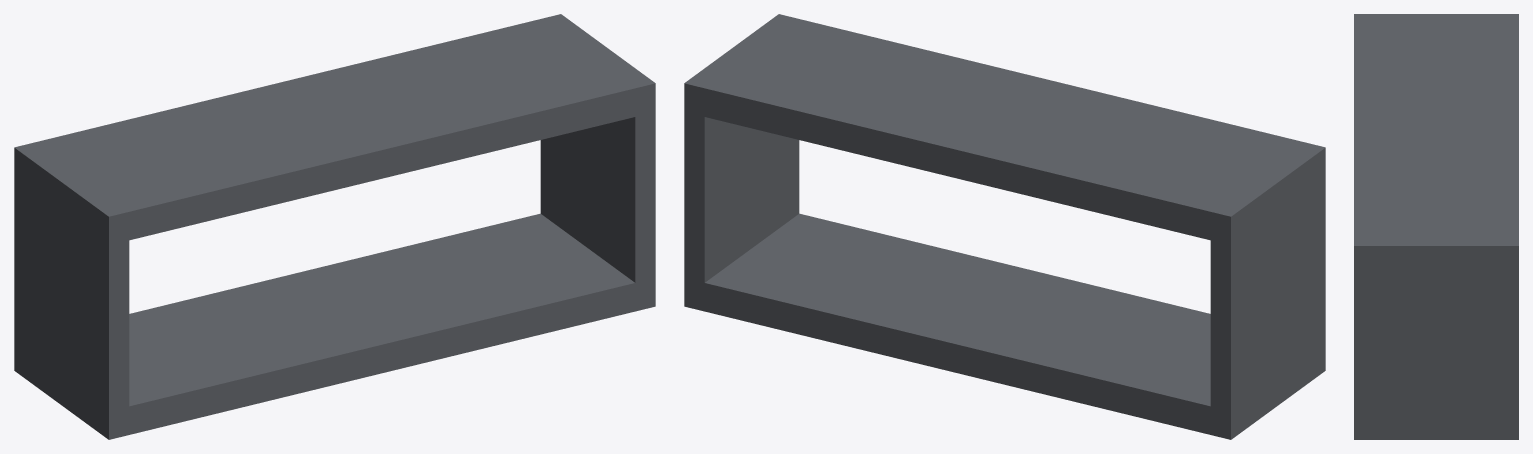
The model's file is Wallshelf V2.fbx.
3 views of the same model, side by side, from view 1: azimuth 30°, elevation 25°; view 2: azimuth 150°, elevation 25°; view 3: azimuth 270°, elevation 25° (orthographic). The views are drawn at different scales.
Visible parts, largest first — view 1: Modular Shelf Solid, Modular Shelf Breakable.007, Modular Shelf Breakable.004, Modular Shelf Breakable.003, Modular Shelf Breakable.001, Modular Shelf Breakable, Modular Shelf Breakable.002; view 2: Modular Shelf Solid, Modular Shelf Breakable.003, Modular Shelf Breakable.007, Modular Shelf Breakable.001, Modular Shelf Breakable.004, Modular Shelf Breakable, Modular Shelf Breakable.002; view 3: Modular Shelf Solid, Modular Shelf Breakable.004, Modular Shelf Breakable.007.
Boxes of the visible parts, left/top/right/bottom form: Modular Shelf Solid: left=14, top=14, right=655, bottom=439; Modular Shelf Breakable.007: left=216, top=47, right=518, bottom=146; Modular Shelf Breakable.004: left=151, top=100, right=447, bottom=183; Modular Shelf Breakable.003: left=308, top=243, right=421, bottom=389; Modular Shelf Breakable.001: left=14, top=235, right=100, bottom=348; Modular Shelf Breakable: left=246, top=274, right=311, bottom=405; Modular Shelf Breakable.002: left=540, top=134, right=629, bottom=222; Modular Shelf Solid: left=684, top=14, right=1325, bottom=439; Modular Shelf Breakable.003: left=821, top=275, right=1062, bottom=343; Modular Shelf Breakable.007: left=822, top=47, right=1031, bottom=193; Modular Shelf Breakable.001: left=1211, top=285, right=1322, bottom=408; Modular Shelf Breakable.004: left=993, top=67, right=1187, bottom=210; Modular Shelf Breakable: left=886, top=304, right=1186, bottom=372; Modular Shelf Breakable.002: left=684, top=160, right=783, bottom=279; Modular Shelf Solid: left=1354, top=14, right=1518, bottom=439; Modular Shelf Breakable.004: left=1354, top=72, right=1518, bottom=157; Modular Shelf Breakable.007: left=1354, top=98, right=1518, bottom=187.
Size of the model in its own units: 100 by 39 by 30.
